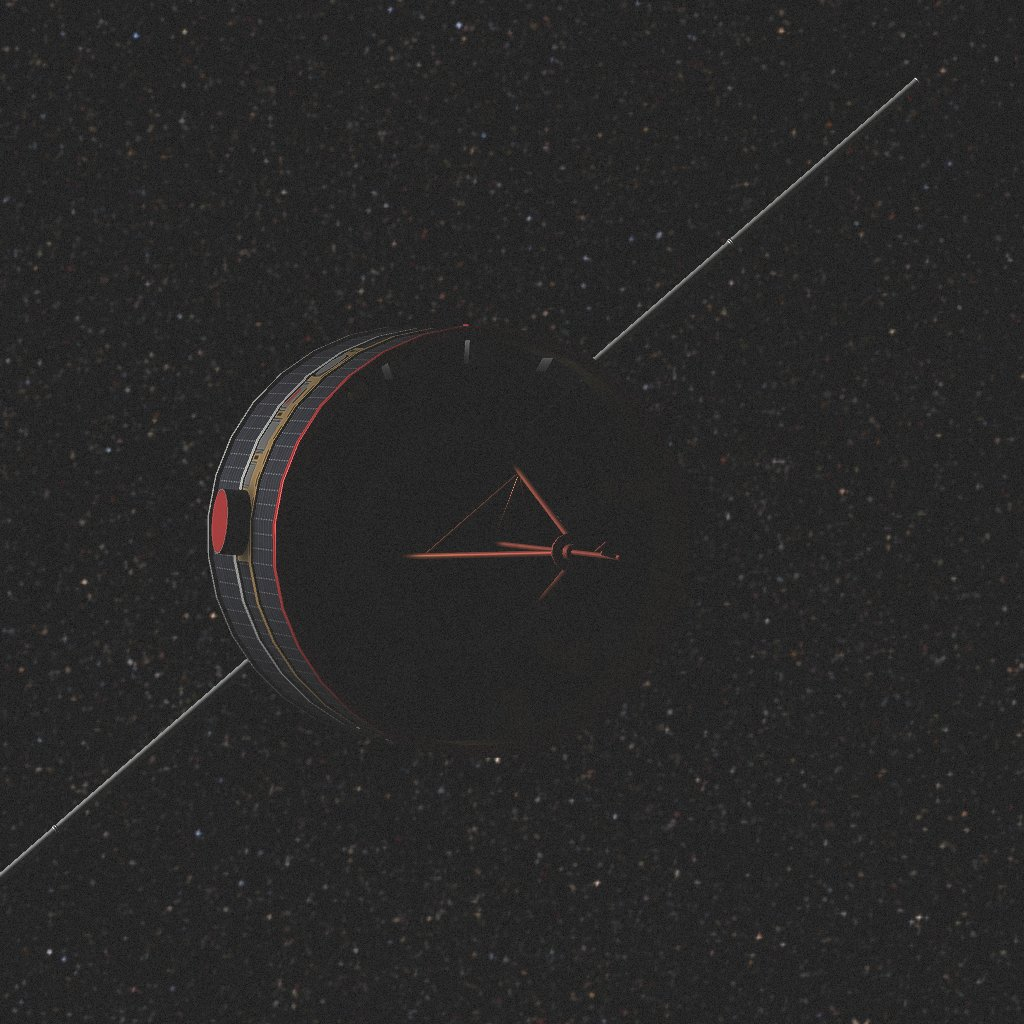double_star: (0, 78, 922, 885)
